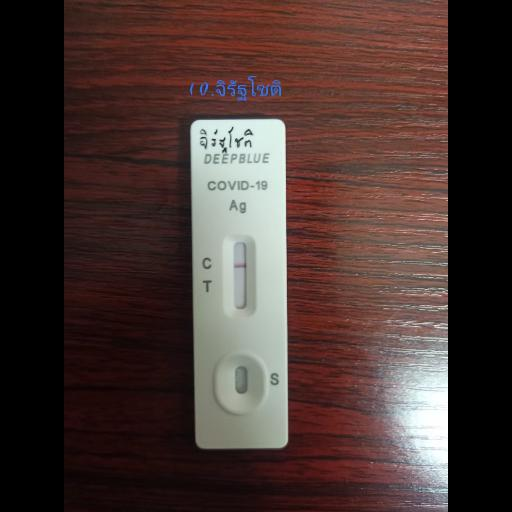Neg: (190, 118, 292, 448)
